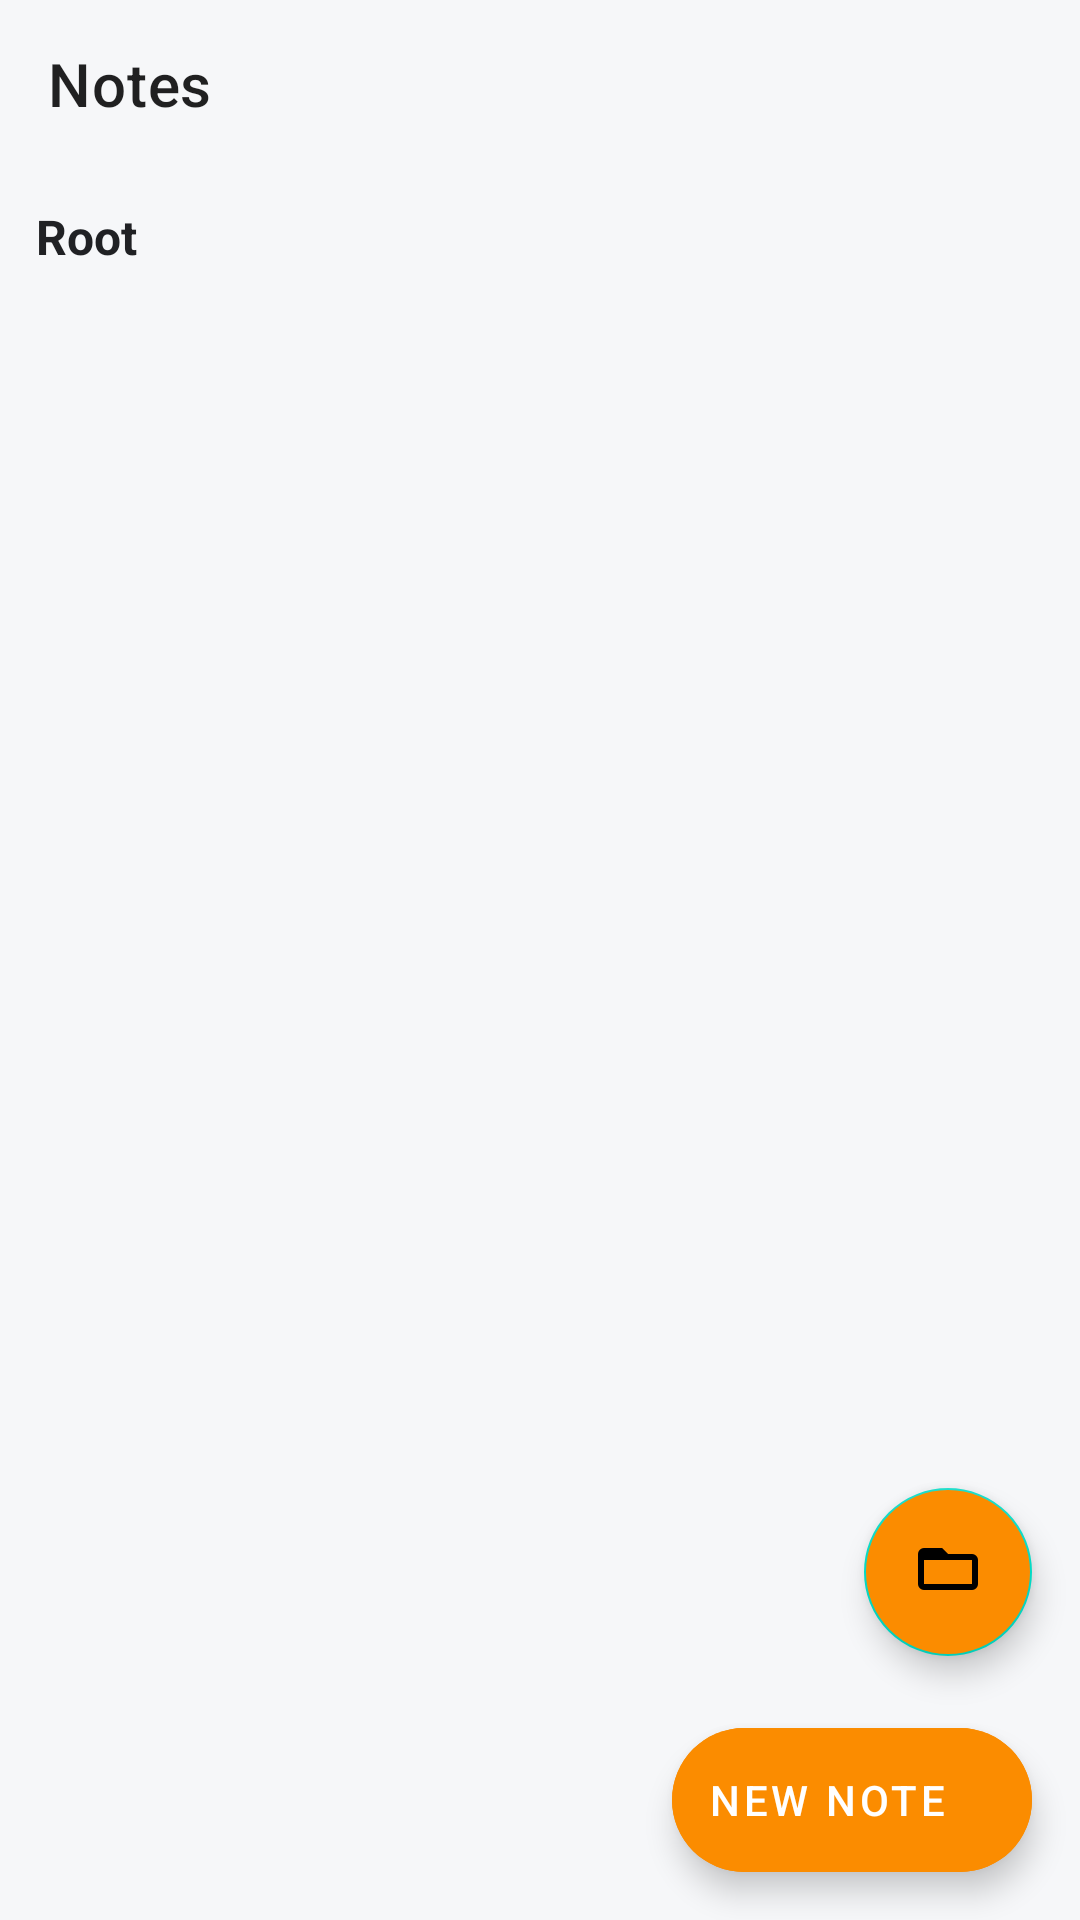

Screen size 1080×1920. Icon name, then its center in pixels as point (x, y):
New Folder: point (948, 1572)
